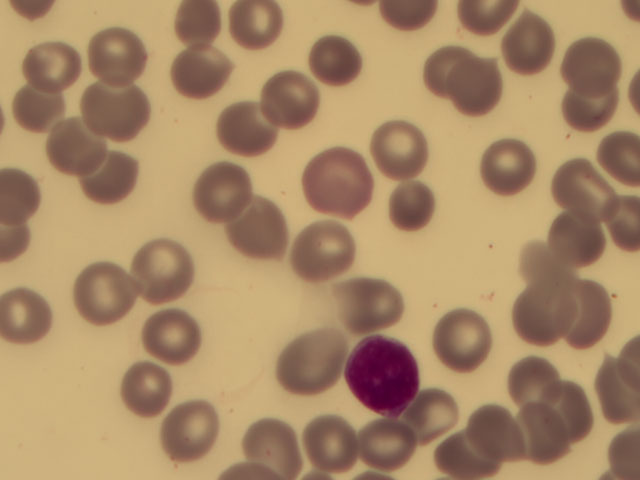RBC: (83, 22, 154, 88), (18, 25, 89, 91), (5, 74, 76, 140), (41, 114, 112, 180), (78, 73, 149, 139), (75, 149, 146, 215), (3, 286, 74, 352), (62, 261, 133, 327), (132, 240, 203, 306), (140, 296, 211, 362), (114, 354, 185, 420), (156, 398, 227, 464), (237, 410, 308, 476), (284, 409, 355, 475), (343, 414, 414, 480), (459, 401, 530, 467), (404, 385, 475, 451), (505, 402, 576, 468), (543, 380, 614, 446), (500, 346, 571, 412), (562, 283, 633, 349), (497, 276, 568, 342), (515, 238, 586, 304), (539, 206, 610, 272), (547, 160, 618, 226), (569, 116, 640, 182), (549, 72, 620, 138), (553, 30, 624, 96), (492, 8, 563, 74), (451, 57, 522, 123), (409, 41, 480, 107), (467, 133, 538, 199), (374, 180, 445, 246), (368, 120, 439, 186), (309, 147, 380, 213), (262, 70, 333, 136), (300, 30, 371, 96), (229, 3, 300, 69), (169, 39, 240, 105), (207, 92, 278, 158), (188, 162, 259, 228), (228, 194, 299, 260), (293, 222, 364, 288), (334, 265, 405, 331), (276, 327, 347, 393), (426, 308, 497, 374), (165, 1, 236, 66)
WBC: (345, 332, 422, 416)
